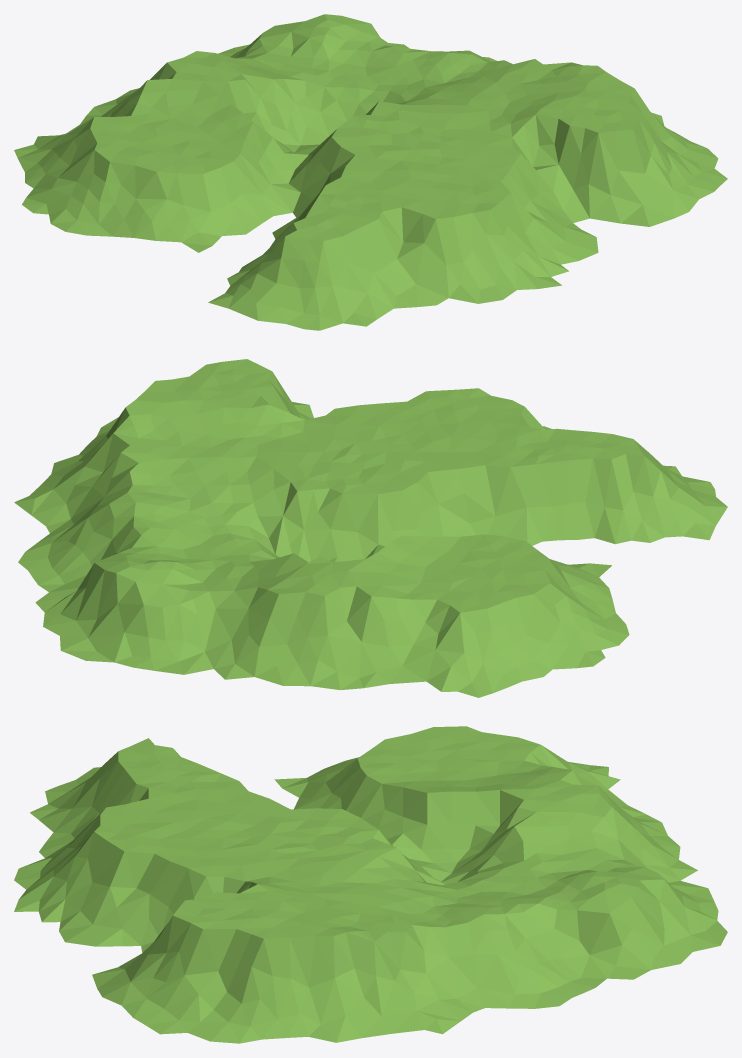
File: MT_Mountain_L_b_02_LOD.fbx
3 views of the same model, one above another, from view 1: azimuth 30°, elevation 25°; view 2: azimuth 150°, elevation 25°; view 3: azimuth 270°, elevation 25° (orthographic). The views are drawn at different scales.
Visible parts, largest first — view 1: MT_Mountain_L_b_02_LOD0; view 2: MT_Mountain_L_b_02_LOD0; view 3: MT_Mountain_L_b_02_LOD0.
Boxes of the visible parts, bbox=[...] form: MT_Mountain_L_b_02_LOD0: bbox=[14, 14, 727, 330]; MT_Mountain_L_b_02_LOD0: bbox=[14, 359, 727, 697]; MT_Mountain_L_b_02_LOD0: bbox=[14, 726, 727, 1043].
Size of what is drawn, in the model's own units: 9217 by 1046 by 9211.
